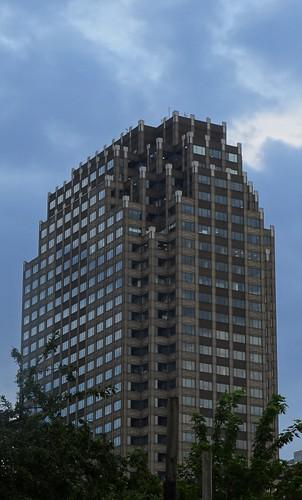building: (19, 109, 291, 497)
